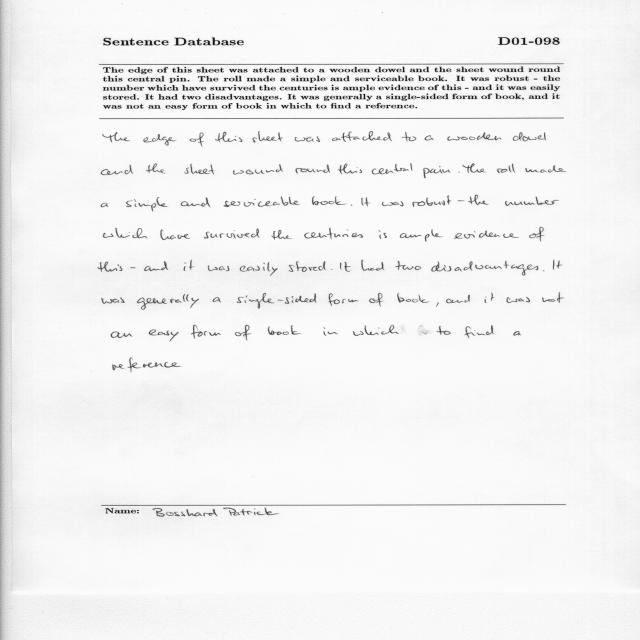word: (431, 261, 538, 275), (237, 293, 317, 309), (137, 294, 199, 310), (224, 197, 300, 207), (113, 358, 163, 373), (332, 131, 392, 142), (304, 228, 363, 239), (126, 197, 168, 211), (400, 229, 443, 242), (233, 164, 283, 175), (204, 229, 259, 239), (505, 196, 559, 206), (240, 262, 278, 276), (454, 231, 519, 239), (353, 325, 399, 336), (448, 132, 501, 141), (412, 195, 451, 207), (372, 164, 412, 175), (104, 228, 148, 238), (191, 325, 221, 339), (289, 261, 326, 272), (143, 134, 176, 146), (329, 294, 359, 307), (149, 329, 179, 342), (465, 325, 494, 338), (252, 131, 283, 143), (184, 164, 214, 175), (161, 229, 191, 240), (268, 326, 301, 336), (526, 165, 567, 173), (423, 166, 450, 178), (101, 165, 133, 175), (397, 293, 429, 303), (295, 165, 330, 174), (312, 197, 346, 206), (513, 132, 546, 141), (181, 198, 210, 208), (103, 132, 130, 142), (216, 132, 243, 142), (361, 260, 384, 271), (423, 326, 451, 335), (542, 292, 564, 303), (338, 164, 362, 174), (463, 163, 487, 173), (98, 262, 122, 272), (144, 261, 168, 271), (235, 325, 251, 340), (529, 227, 544, 242), (396, 261, 421, 270), (468, 195, 489, 205), (146, 164, 166, 174), (272, 230, 292, 240), (190, 133, 204, 147), (370, 293, 384, 307), (446, 295, 470, 303), (497, 164, 515, 173), (102, 297, 125, 304), (295, 136, 320, 142), (402, 132, 416, 142), (507, 297, 530, 303), (323, 327, 338, 336), (208, 266, 229, 272), (111, 332, 132, 338), (183, 260, 194, 271), (340, 262, 351, 272), (382, 201, 403, 206), (553, 260, 562, 270), (485, 293, 494, 303), (164, 362, 181, 367), (361, 198, 370, 207), (378, 230, 387, 239), (425, 136, 434, 141), (212, 297, 221, 302), (513, 331, 521, 336), (102, 203, 109, 207), (436, 302, 439, 307), (458, 201, 465, 202), (130, 267, 136, 268), (458, 171, 460, 173), (351, 204, 352, 206), (543, 270, 544, 272), (331, 269, 332, 270)
